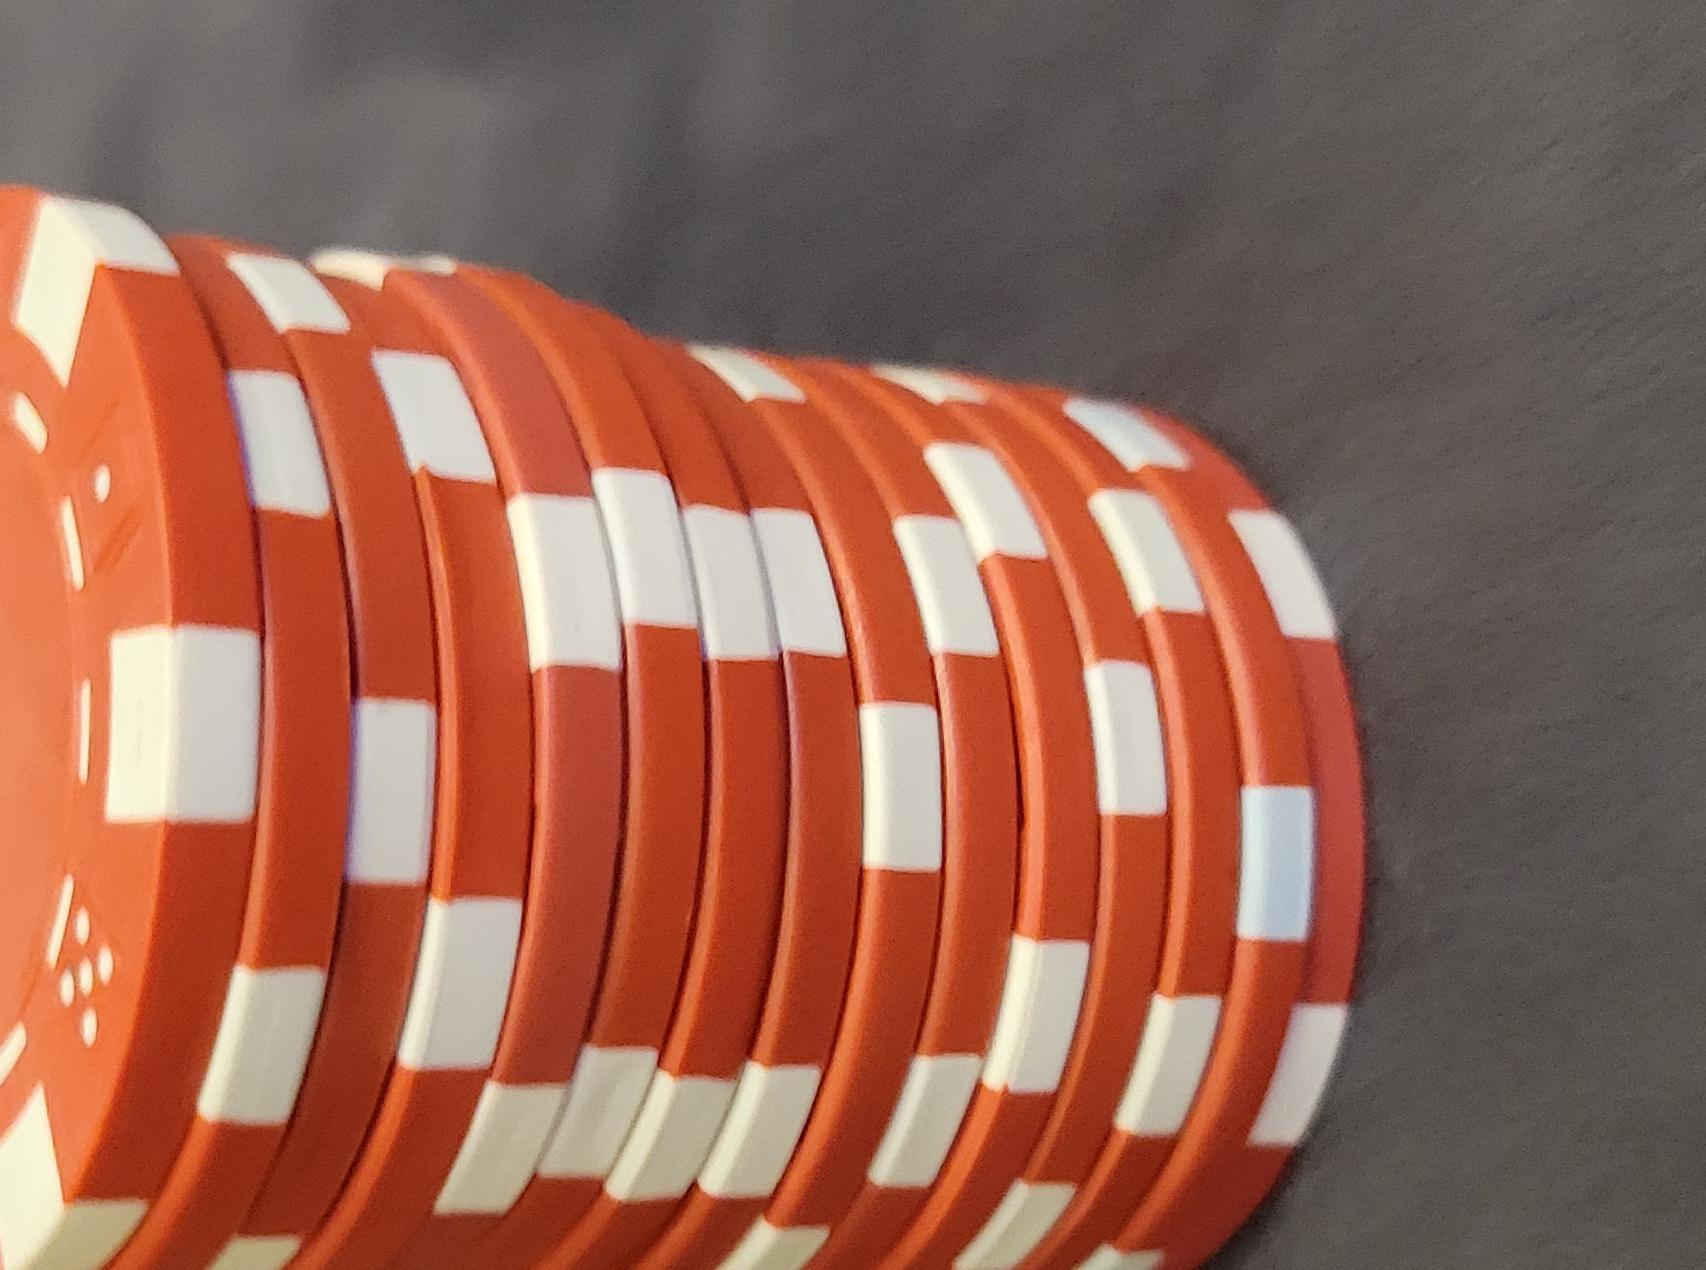Chip: (1, 227, 976, 1270)
